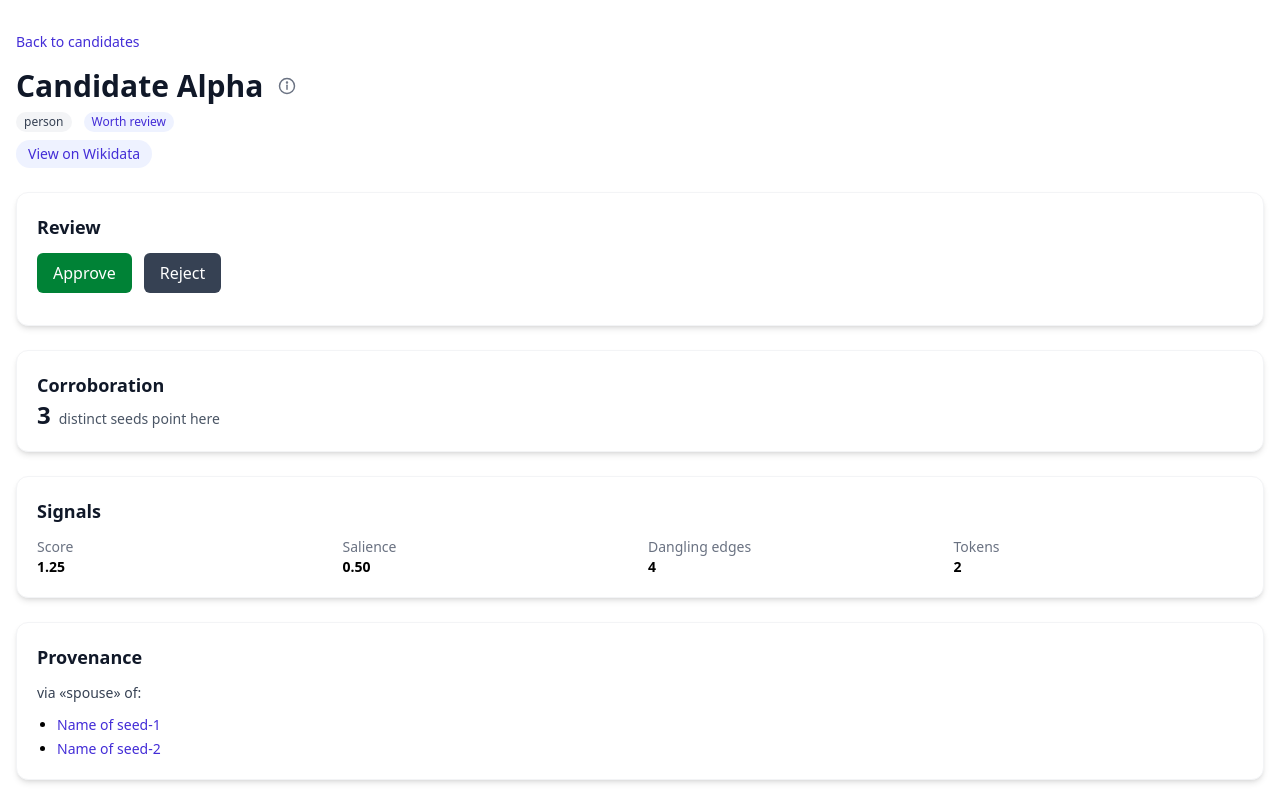
CandidateDetailPage verdict › reject shows the rejected message
What coordinates should you click on to do the following:
click the button "Reject"
I would click on:
 (182, 273)
Its box is [144,253,221,293].
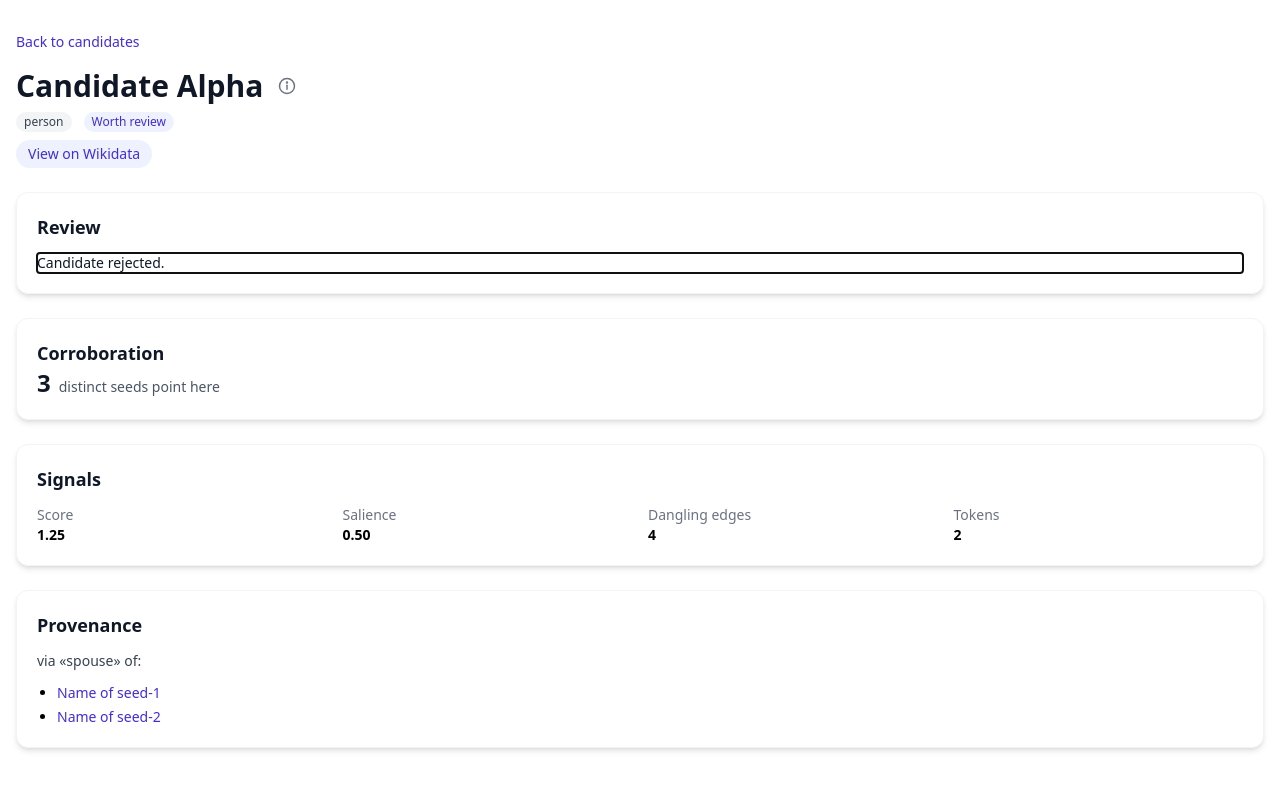
Check: the text "Candidate rejected." is shown, box [37,253,165,272]
